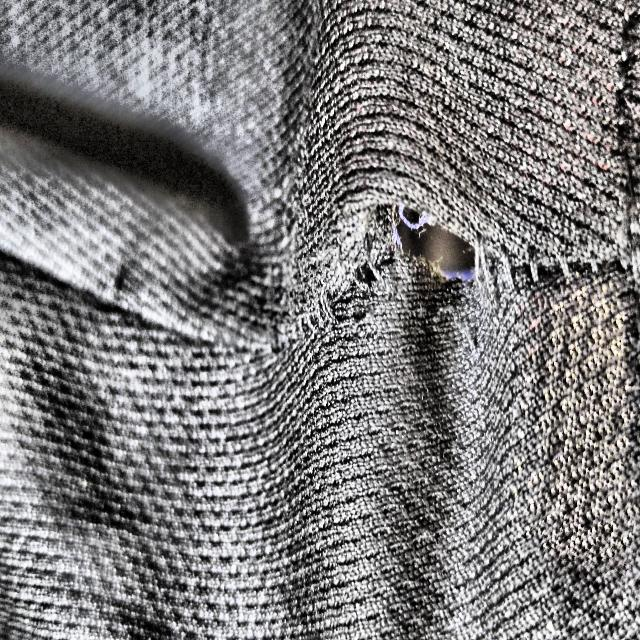seam: (259, 188, 562, 336)
